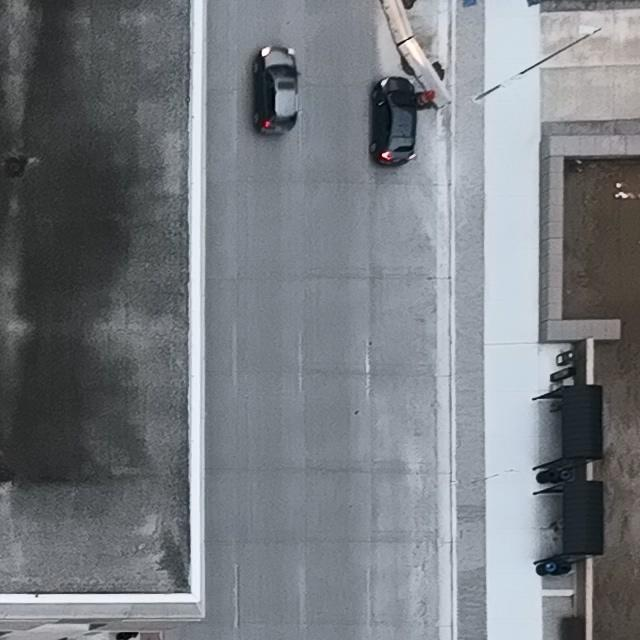car: (252, 45, 302, 134), (370, 77, 417, 168)
